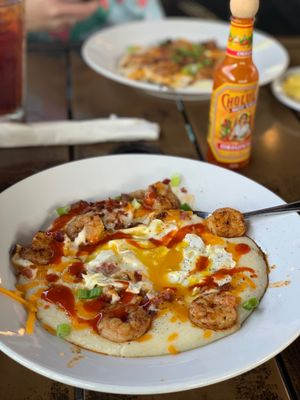sushi: (78, 14, 300, 156)
